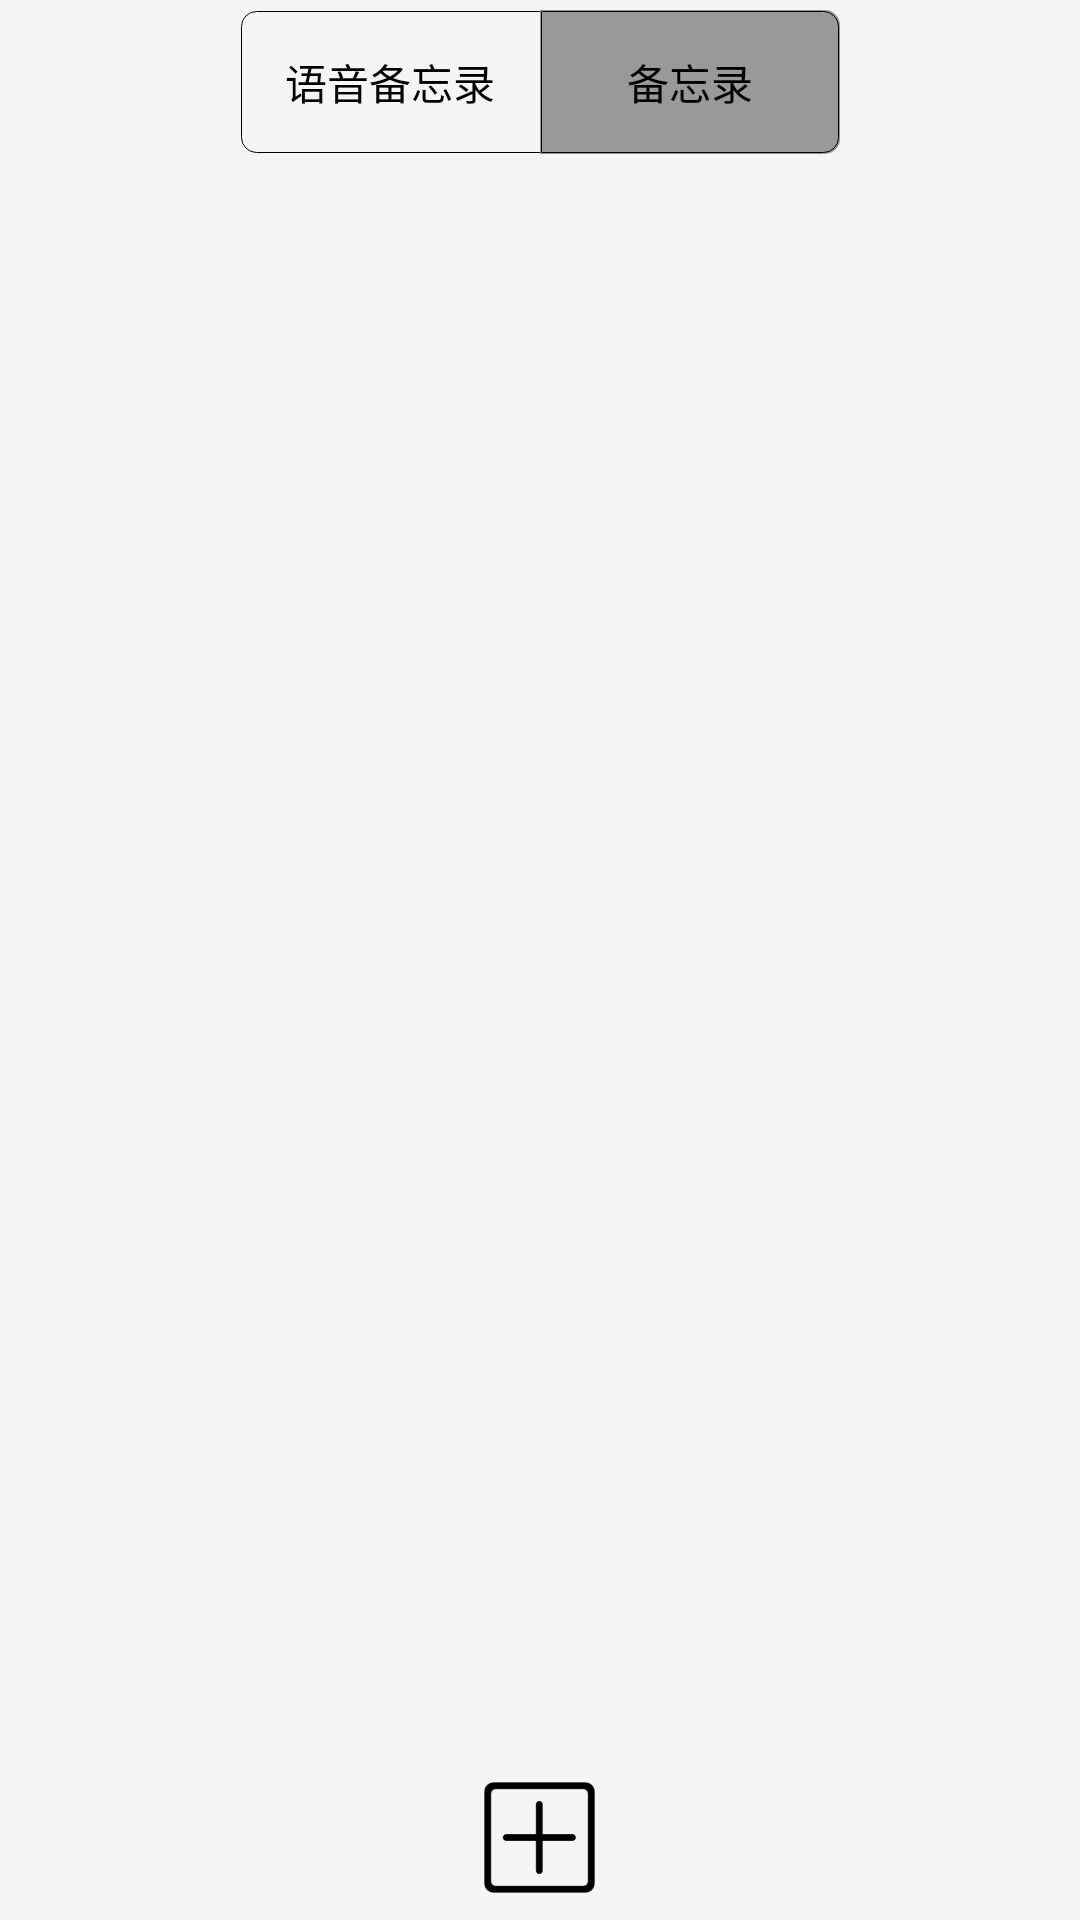

Where to tap for icons on this 1080 × 1920 app screen, as point (x, y):
add: point (539, 1837)
